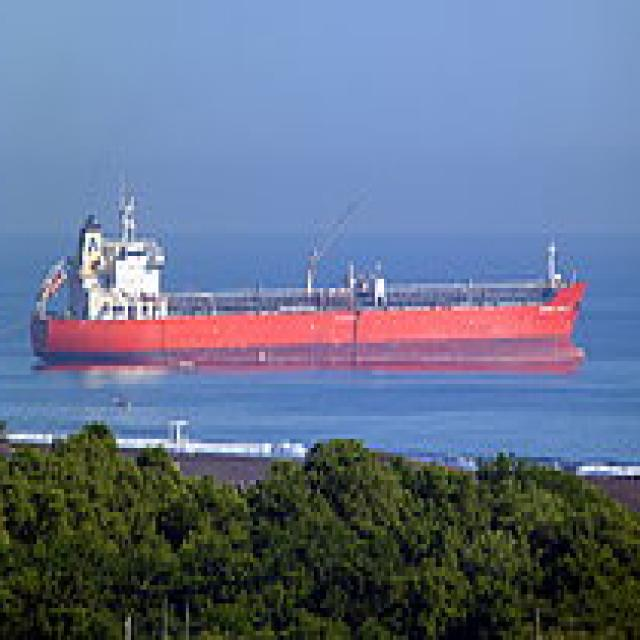Tanker: (34, 174, 591, 356)
